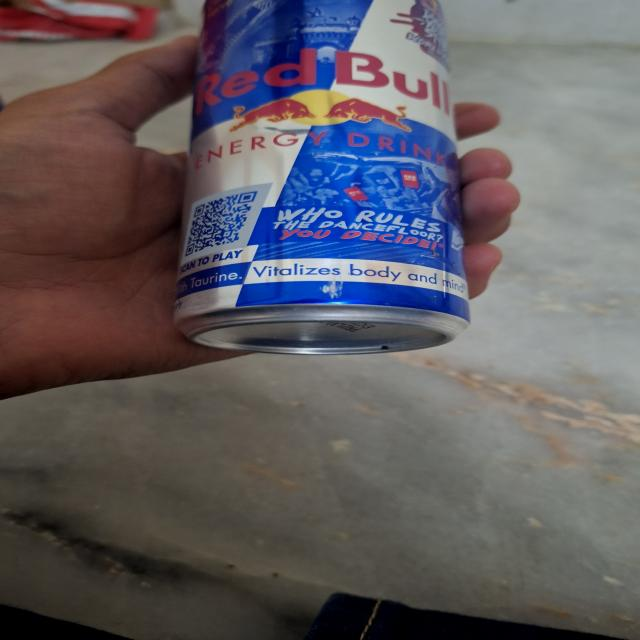Redbull DanceYourStyle: (165, 0, 485, 353)
